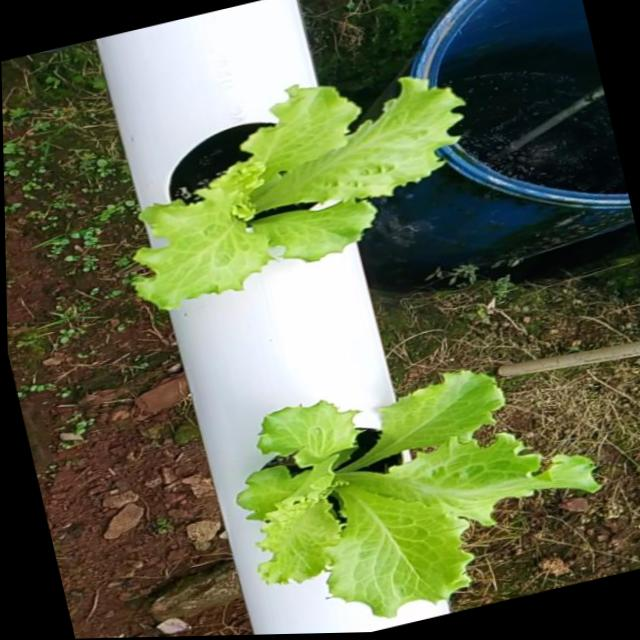Baby: (235, 365, 598, 614), (130, 69, 461, 303)
